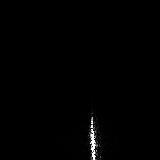ship: (87, 110, 103, 160)
